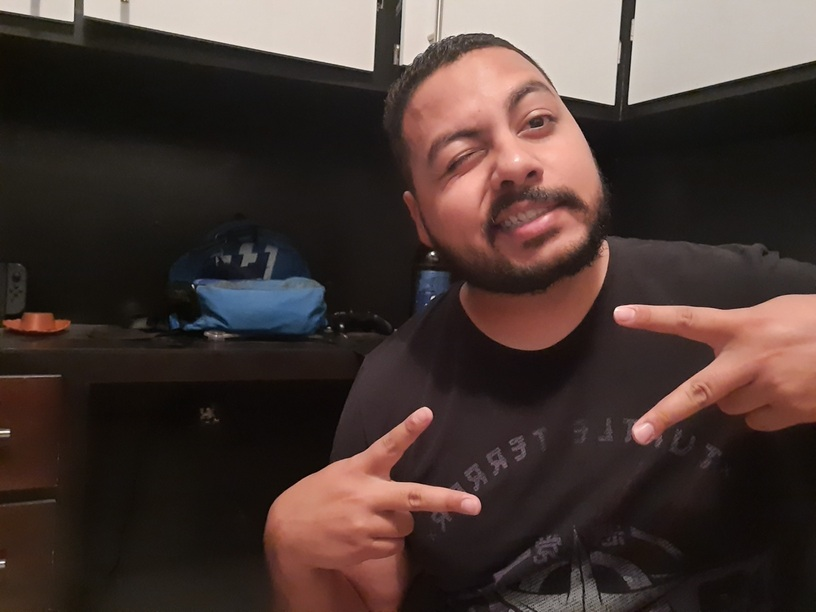Yoshi: (345, 24, 650, 297)
